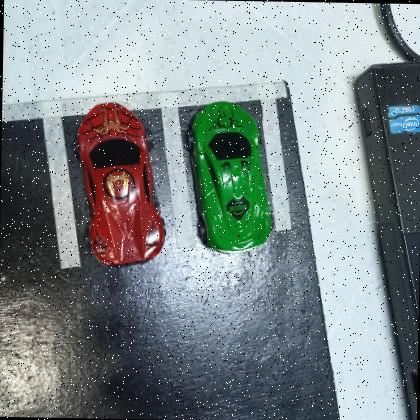Car: (70, 100, 169, 270), (181, 99, 276, 254)
